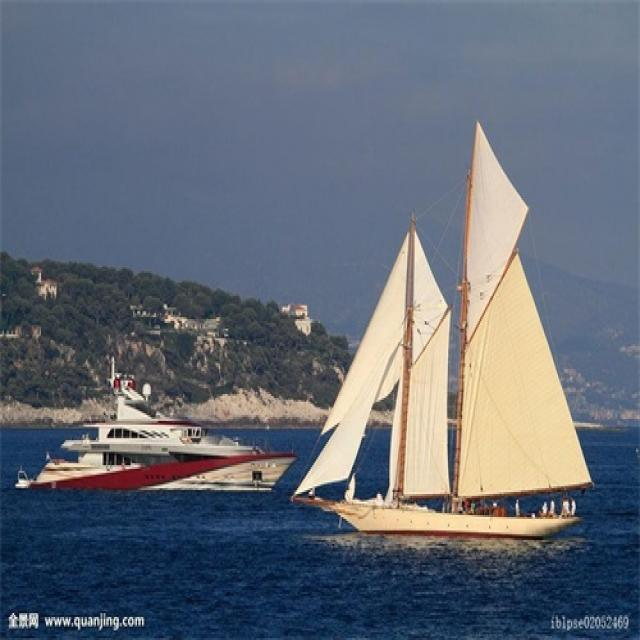Ship: (277, 129, 596, 552)
